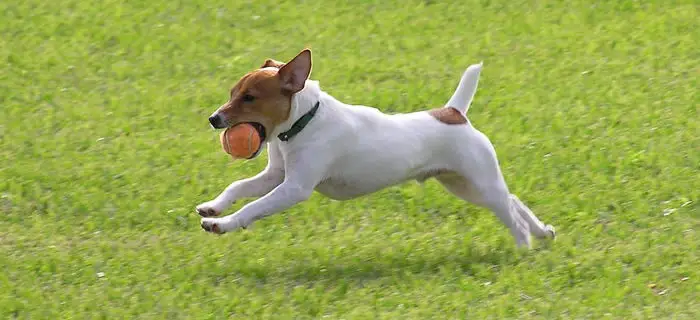dog: (196, 44, 557, 254)
